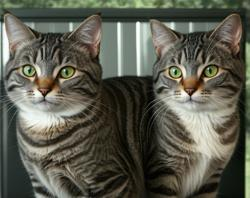cat: (1, 8, 245, 198)
